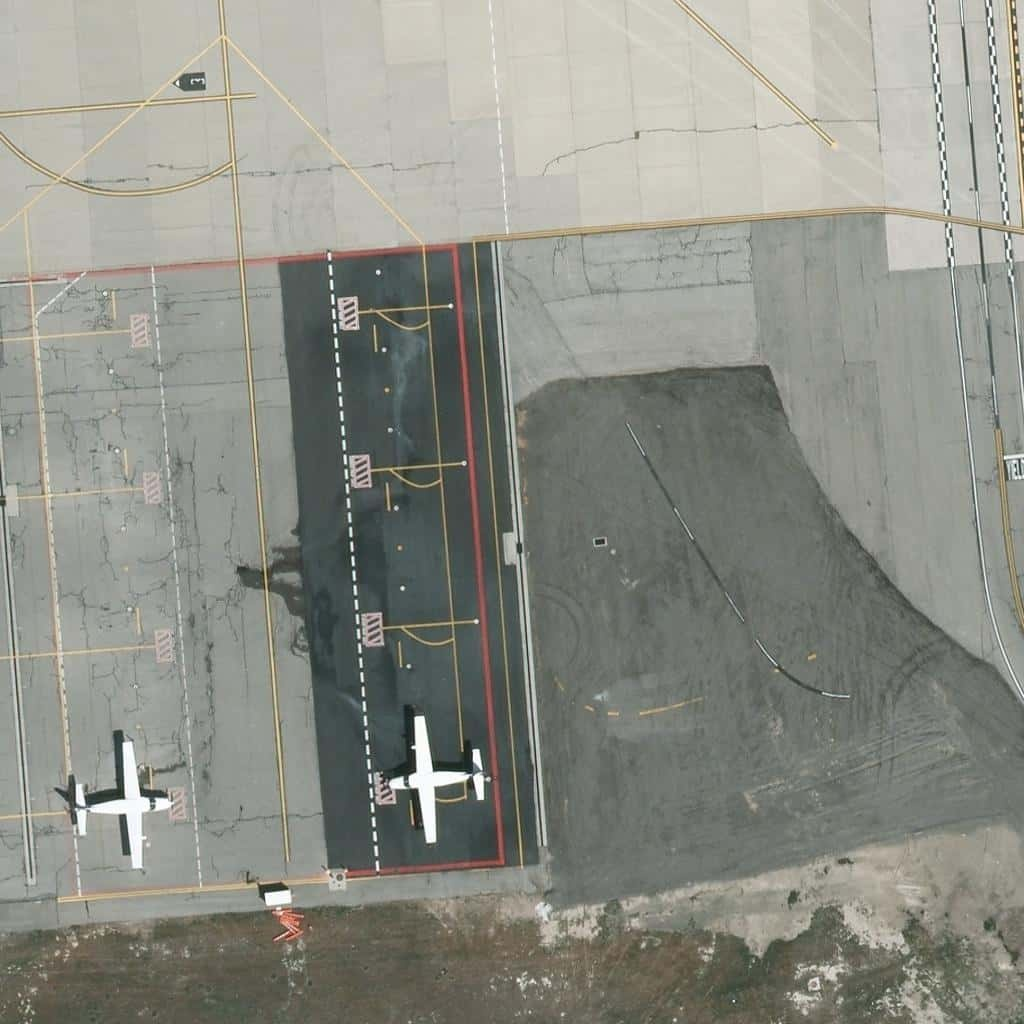plane: (383, 714, 493, 846), (72, 739, 172, 874)
